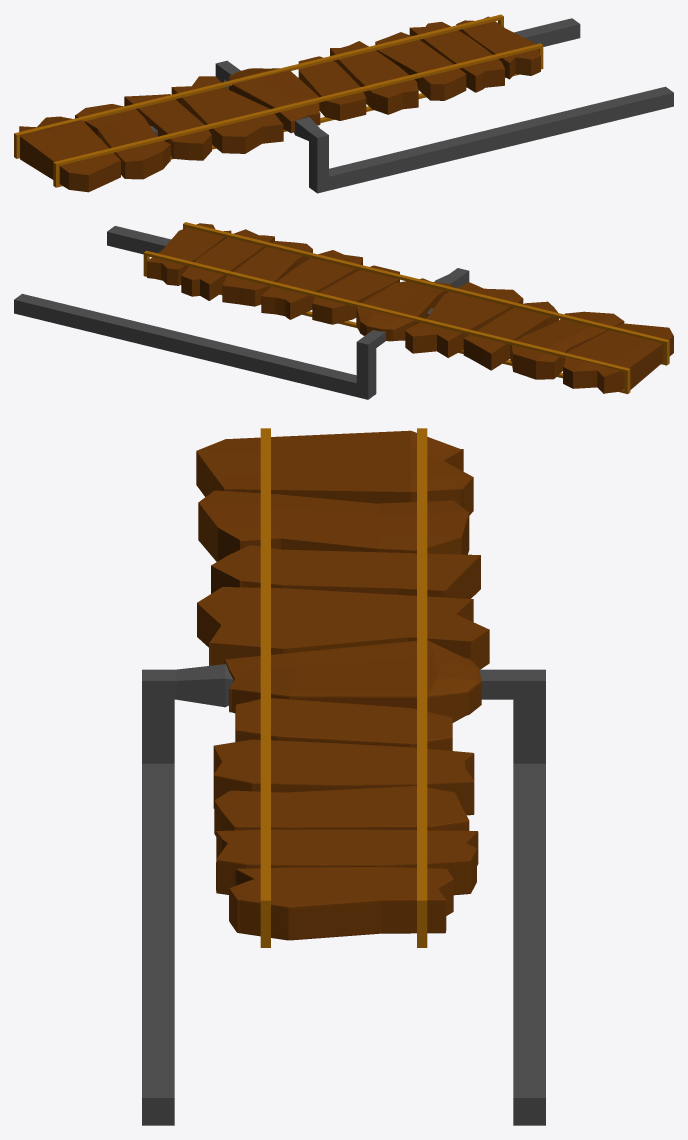
The model's file is LP_BridgeStylized1.2 1.fbx.
3 views of the same model, one above another, from view 1: azimuth 30°, elevation 25°; view 2: azimuth 150°, elevation 25°; view 3: azimuth 270°, elevation 25° (orthographic). The views are drawn at different scales.
Parts seen in each view (by area): view 1: SteelNoBevel, Strap, Piedra1, Piedra4, Piedra2, piedra7, Piedra5, Piedra8, Piedra3, Piedra9, Piedra6, Piedra10; view 2: SteelNoBevel, Strap, Piedra1, Piedra4, Piedra2, Piedra5, piedra7, Piedra3, Piedra8, Piedra9, Piedra6, Piedra10; view 3: SteelNoBevel, Piedra4, Piedra1, Piedra10, Piedra2, Piedra5, piedra7, Strap, Piedra9, Piedra3, Piedra8, Piedra6.
Boxes of the visible parts, x1,y1,x2,y2 form: SteelNoBevel: (100, 18, 673, 193); Strap: (14, 14, 543, 187); Piedra1: (19, 116, 120, 192); Piedra4: (171, 76, 283, 153); Piedra2: (75, 104, 170, 179); piedra7: (330, 41, 418, 114); Piedra5: (229, 68, 320, 133); Piedra8: (375, 32, 466, 100); Piedra3: (124, 94, 211, 160); Piedra9: (409, 21, 504, 92); Piedra6: (298, 56, 366, 120); Piedra10: (456, 16, 540, 79); SteelNoBevel: (14, 226, 469, 399); Strap: (143, 222, 669, 394); Piedra1: (563, 323, 673, 393); Piedra4: (405, 282, 523, 357); Piedra2: (510, 311, 624, 379); Piedra5: (356, 278, 453, 341); piedra7: (261, 250, 362, 319); Piedra3: (463, 301, 558, 370); Piedra8: (222, 241, 312, 306); Piedra9: (181, 229, 274, 300); Piedra6: (312, 265, 399, 324); Piedra10: (147, 223, 231, 285); SteelNoBevel: (142, 664, 545, 1125); Piedra4: (197, 587, 489, 669); Piedra1: (196, 430, 473, 515); Piedra10: (229, 866, 453, 940); Piedra2: (198, 490, 469, 561); Piedra5: (224, 640, 481, 722); piedra7: (213, 739, 474, 815); Strap: (260, 428, 427, 947); Piedra9: (216, 829, 478, 895); Piedra3: (211, 545, 480, 598); Piedra8: (214, 786, 469, 836); Piedra6: (235, 698, 452, 750).
Bounding box in the file's own units: 1868 × 194 × 560.
